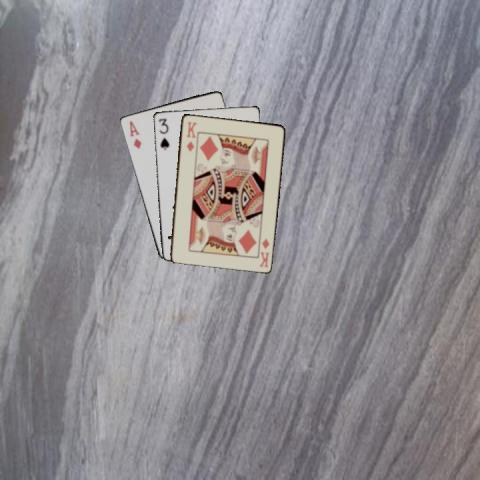3s: (156, 115, 171, 151)
Ad: (126, 117, 143, 150)
Kd: (254, 231, 271, 269), (183, 118, 198, 152)
